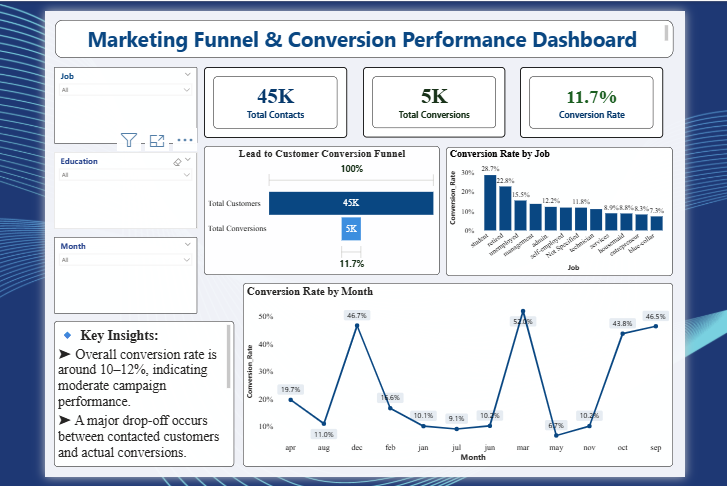

This screenshot's page, from the dashboard's own definition file:
{"tool":"powerbi","page":{"name":"REPORT OF MARKETING FUNNEL ANALYSIS","canvas":[1488,1084],"ordinal":0},"visuals":[{"type":"textbox","box":[22.5,20,1437.5,87.5],"z":0},{"type":"cardVisual","fields":{"Data":["bank-full.Total_Customers"]},"box":[370,130,332.5,165],"z":1000},{"type":"cardVisual","fields":{"Data":["bank-full.Total_Conversions"]},"box":[740,130,331.4,164.3],"z":2000},{"type":"cardVisual","fields":{"Data":["bank-full.Conversion_Rate"]},"box":[1105,130,332.5,165],"z":3000},{"type":"funnel","title":"Lead to Customer Conversion Funnel","fields":{"Y":["bank-full.Total_Customers","bank-full.Total_Conversions"]},"box":[370,315,547.5,300],"z":4000},{"type":"clusteredColumnChart","title":"Conversion Rate by Job","fields":{"Category":["bank-full.Job"],"Y":["bank-full.Conversion_Rate"]},"box":[931.8,315.9,527.3,300],"z":5000},{"type":"lineChart","title":"Conversion Rate by Month","fields":{"Category":["bank-full.Month"],"Y":["bank-full.Conversion_Rate"]},"box":[460,633.3,1000,426.7],"z":6000},{"type":"slicer","fields":{"Values":["bank-full.Job"]},"box":[21.7,130,333.3,178.3],"z":7000},{"type":"slicer","fields":{"Values":["bank-full.Education"]},"box":[21.7,328.3,333.3,178.3],"z":8000},{"type":"slicer","fields":{"Values":["bank-full.Month"]},"box":[21.7,525,333.3,178.3],"z":9000},{"type":"textbox","box":[22,720.5,418.6,339.3],"z":10000}]}

Visuals, with their boxes in screenshot pixels (x1, y1, x2, y2):
textbox: locate(46, 16, 682, 55)
cardVisual - bank-full.Total_Customers: locate(200, 65, 347, 138)
cardVisual - bank-full.Total_Conversions: locate(364, 65, 510, 138)
cardVisual - bank-full.Conversion_Rate: locate(525, 65, 672, 138)
"Lead to Customer Conversion Funnel" funnel: locate(200, 147, 442, 280)
"Conversion Rate by Job" clusteredColumnChart: locate(448, 147, 682, 280)
"Conversion Rate by Month" lineChart: locate(240, 288, 682, 477)
slicer - bank-full.Job: locate(46, 65, 193, 144)
slicer - bank-full.Education: locate(46, 153, 193, 232)
slicer - bank-full.Month: locate(46, 240, 193, 319)
textbox: locate(46, 326, 231, 477)
